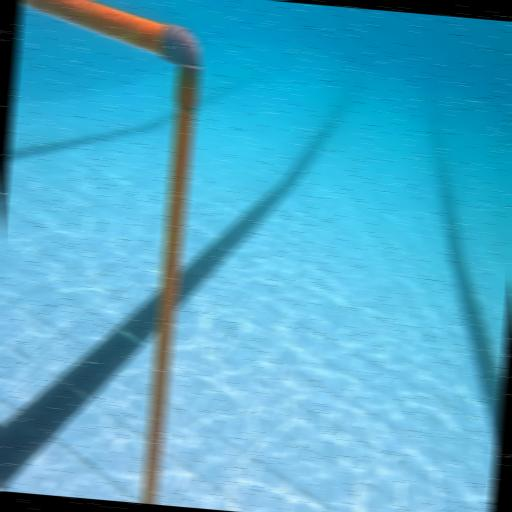gate: (0, 0, 208, 505)
